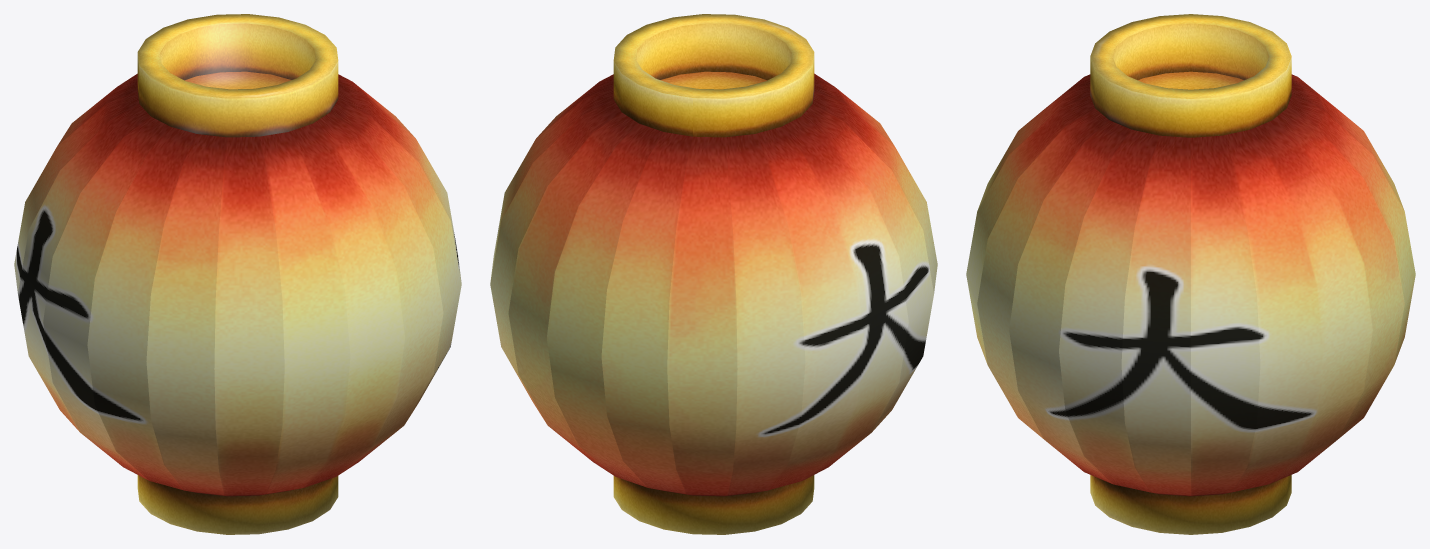
File: Lampion1.FBX
The picture shows the model from 3 angles, left to right: view 1: azimuth 30°, elevation 25°; view 2: azimuth 150°, elevation 25°; view 3: azimuth 270°, elevation 25°; orthographic projection.
Parts seen in each view (by area): view 1: Lampion_1; view 2: Lampion_1; view 3: Lampion_1.
Part boxes in pixels (x1,y1,x2,y2): Lampion_1: (14, 14, 461, 534); Lampion_1: (490, 14, 937, 534); Lampion_1: (966, 14, 1415, 534).
Size of the model in its own units: 151 by 162 by 151.
